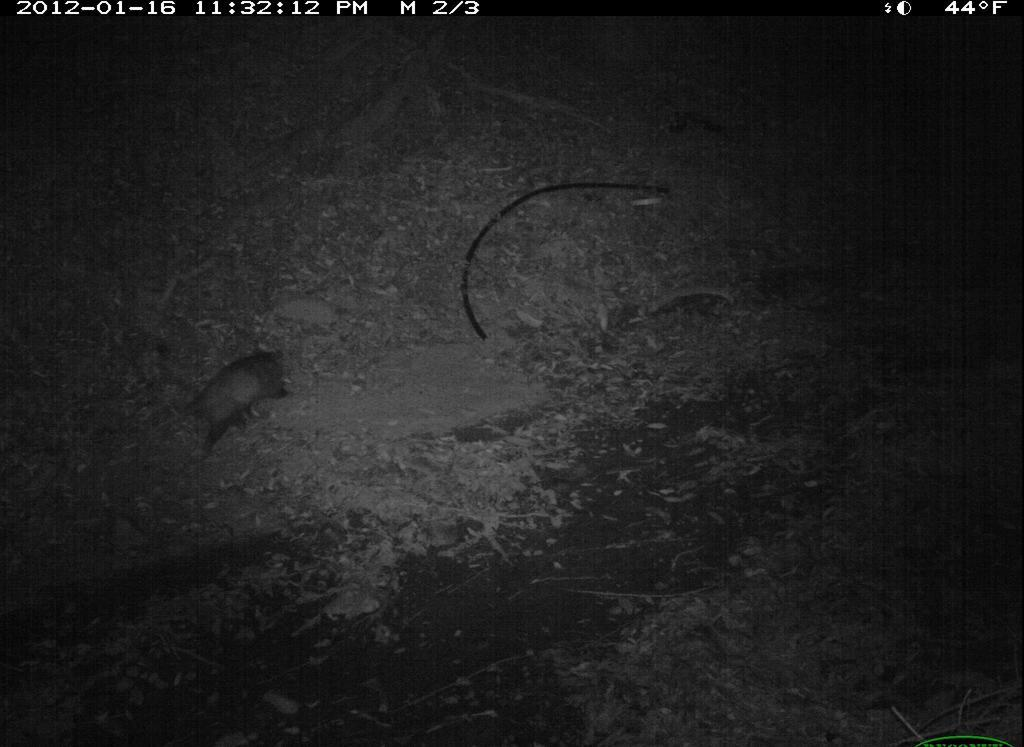opossum: (145, 341, 306, 459)
